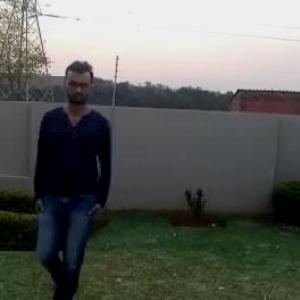follow: (38, 53, 117, 299)
